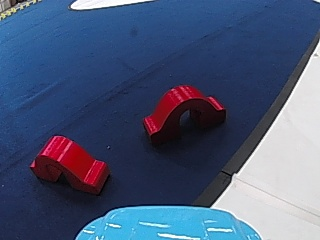bridge: (137, 81, 228, 142), (31, 133, 113, 194)
